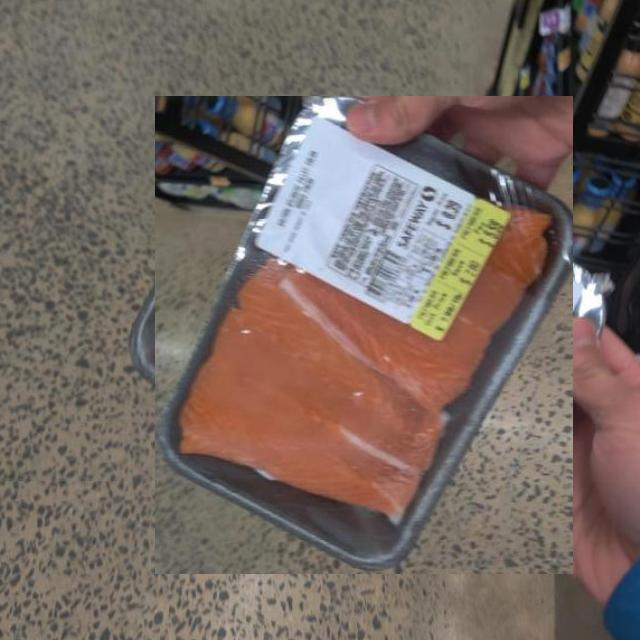Meat: (156, 96, 573, 574)
